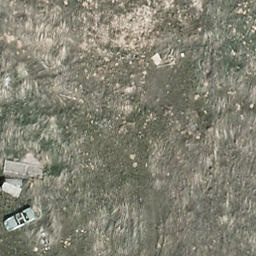car: (3, 208, 38, 233)
